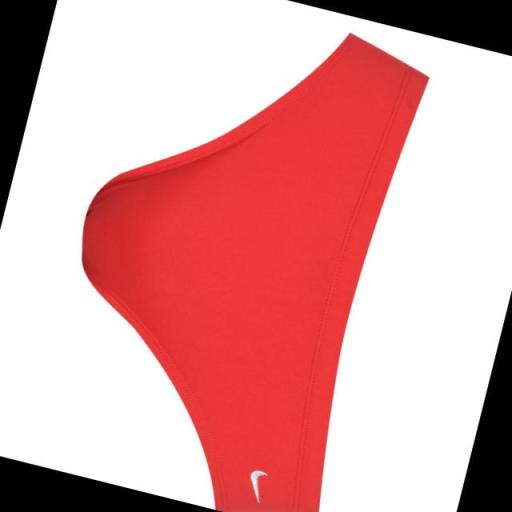Nike: (238, 465, 270, 509)
